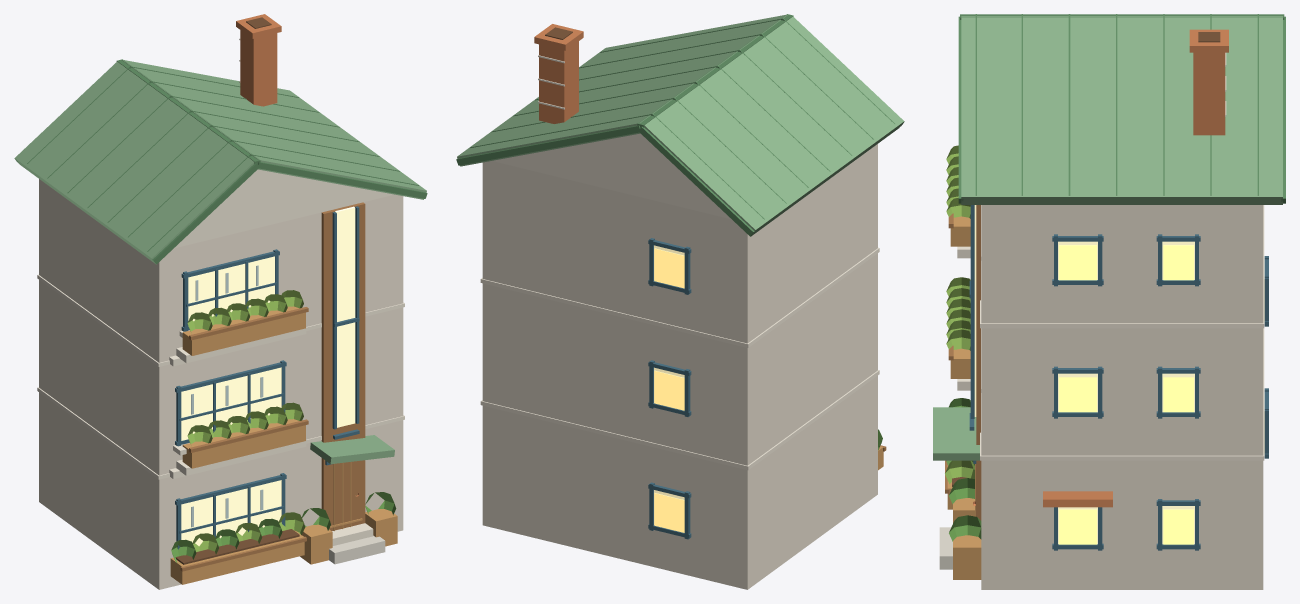
File: house-l03.glb
The picture shows the model from 3 angles, left to right: view 1: azimuth 30°, elevation 25°; view 2: azimuth 150°, elevation 25°; view 3: azimuth 270°, elevation 25°; orthographic projection. The views are drawn at different scales.
Parts seen in each view (by area): view 1: Residential_L03; view 2: Residential_L03; view 3: Residential_L03.
Part boxes in pixels (bbox=[...]): Residential_L03: bbox=[14, 14, 427, 589]; Residential_L03: bbox=[456, 14, 904, 589]; Residential_L03: bbox=[933, 14, 1285, 589].
Size of the model in its own units: 6.15 by 9.47 by 5.76.
